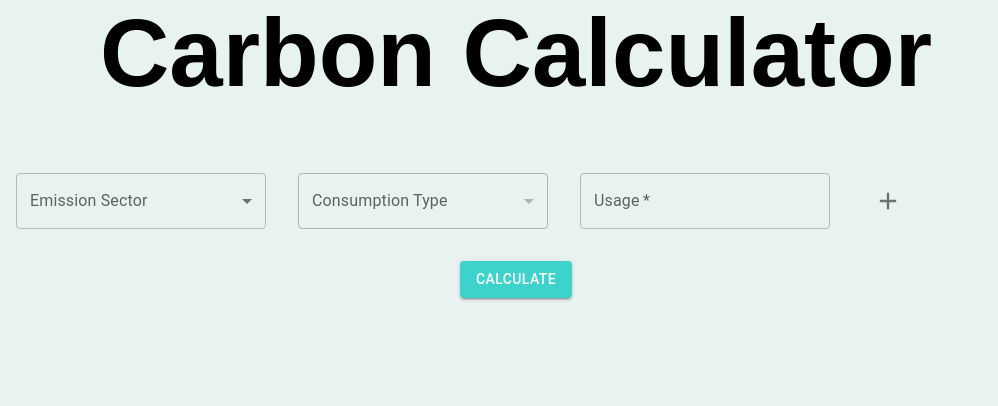
Test case: App › adds and removes form rows
The image size is (998, 406).
Step 1. Click the button named "add" → (888, 201), box [862,173,914,229]
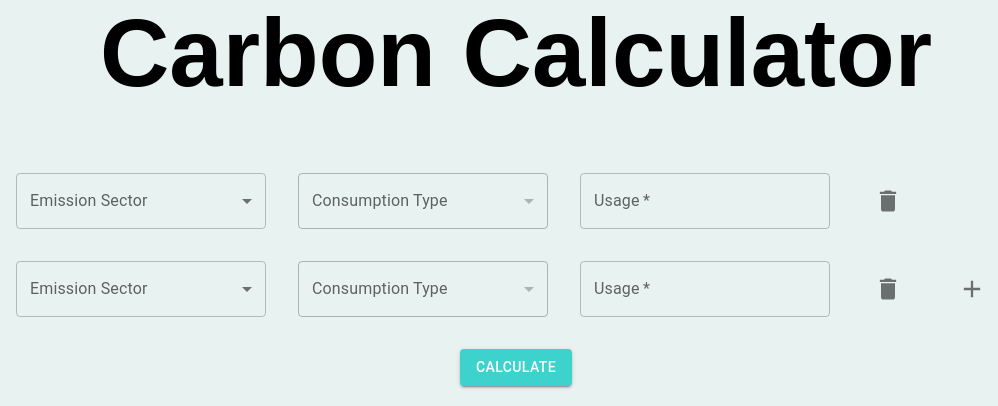
Now the number of dropdowns named "Emission Sector" is 2, box [16,173,266,229]; [16,261,266,317]
Step 2. Click the 1st button named "delete" → (888, 201), box [862,173,914,229]
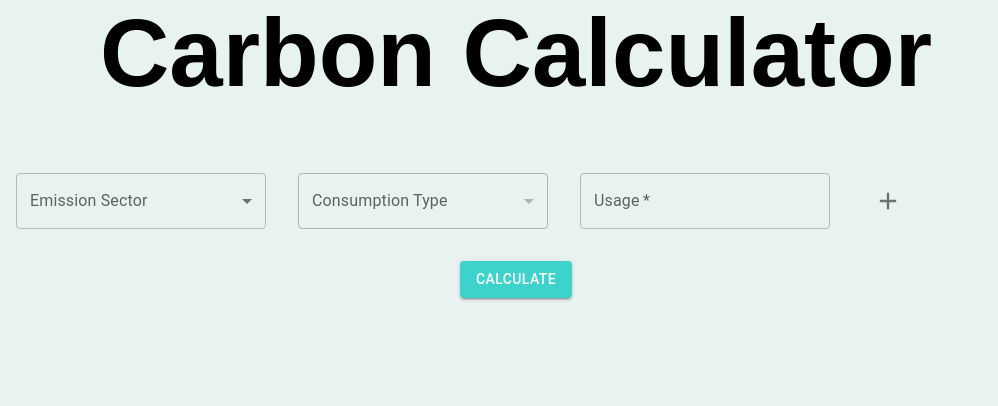
Now the number of dropdowns named "Emission Sector" is 1, box [16,173,266,229]
